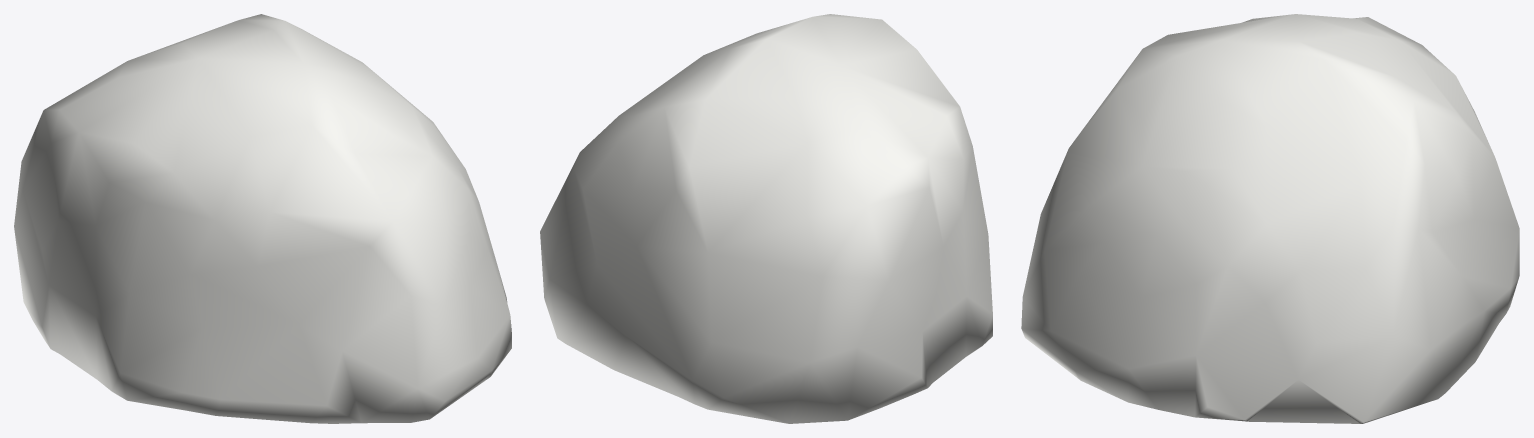
Rendered from monte_neve_natal_1_pacote.glb.
3 renders of one model, left to right at view 1: azimuth 30°, elevation 25°; view 2: azimuth 150°, elevation 25°; view 3: azimuth 270°, elevation 25°, orthographic. The views are drawn at different scales.
Parts seen in each view (by area): view 1: monte_neve_natal_1_pacote; view 2: monte_neve_natal_1_pacote; view 3: monte_neve_natal_1_pacote.
Part boxes in pixels (bbox=[...]): monte_neve_natal_1_pacote: bbox=[14, 14, 511, 423]; monte_neve_natal_1_pacote: bbox=[540, 14, 992, 423]; monte_neve_natal_1_pacote: bbox=[1021, 14, 1519, 423].
Size of the model in its own units: 0.6585 by 0.4601 by 0.7209.
1 material, 1 textured.
